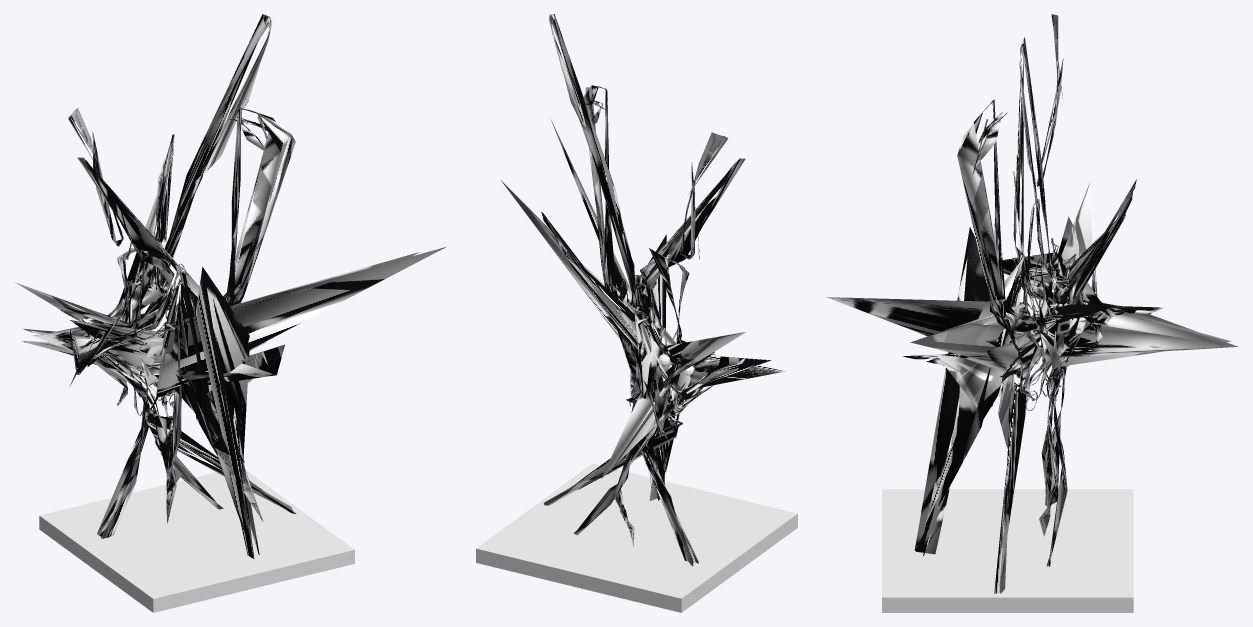
Rendered from LEGEND-CHRM-v105.glb.
3 views of the same model, side by side, from view 1: azimuth 30°, elevation 25°; view 2: azimuth 150°, elevation 25°; view 3: azimuth 270°, elevation 25° (orthographic). The views are drawn at different scales.
Visible parts, largest first — view 1: LEGEND-CHRM; view 2: LEGEND-CHRM; view 3: LEGEND-CHRM.
Boxes of the visible parts, x1,y1,x2,y2 form: LEGEND-CHRM: (15,14,446,612); LEGEND-CHRM: (476,14,797,612); LEGEND-CHRM: (826,14,1238,612).
Size of the model in its own units: 12 by 18 by 12.
Materials: 1 (1 with a texture image).
